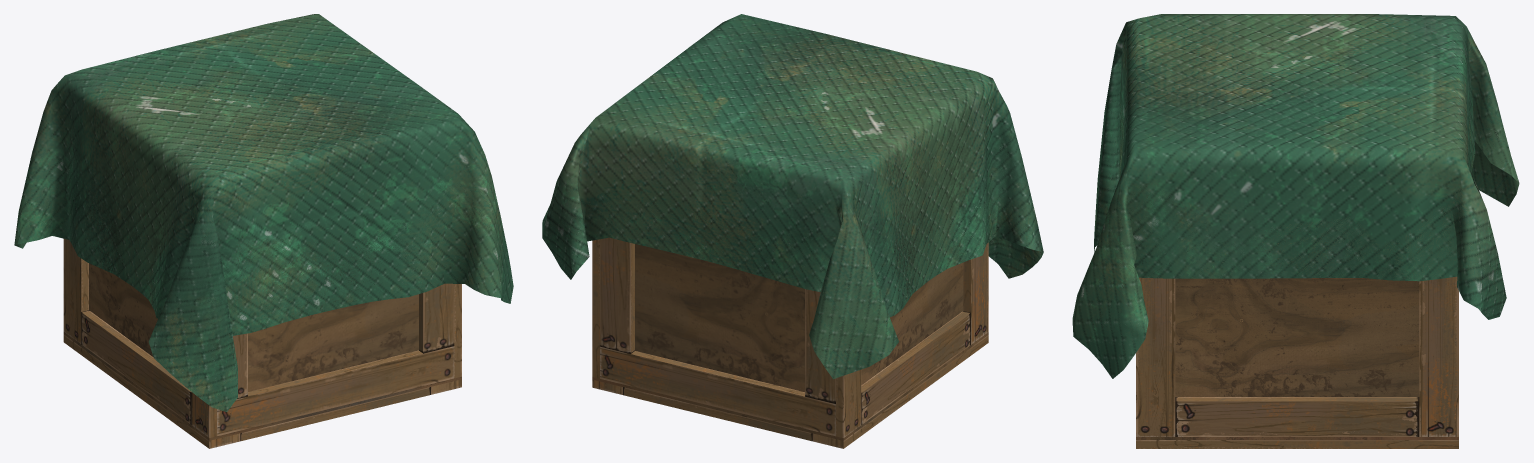
Rendered from crate04_cover.fbx.
3 views of the same model, side by side, from view 1: azimuth 30°, elevation 25°; view 2: azimuth 150°, elevation 25°; view 3: azimuth 270°, elevation 25° (orthographic). The views are drawn at different scales.
Parts seen in each view (by area): view 1: crate04_cover; view 2: crate04_cover; view 3: crate04_cover.
Boxes of the visible parts, x1=… form: crate04_cover: x1=14, y1=14, x2=513, y2=448; crate04_cover: x1=542, y1=14, x2=1043, y2=448; crate04_cover: x1=1072, y1=14, x2=1519, y2=448.
Bounding box in the file's own units: 1.38 × 1.01 × 1.36.
